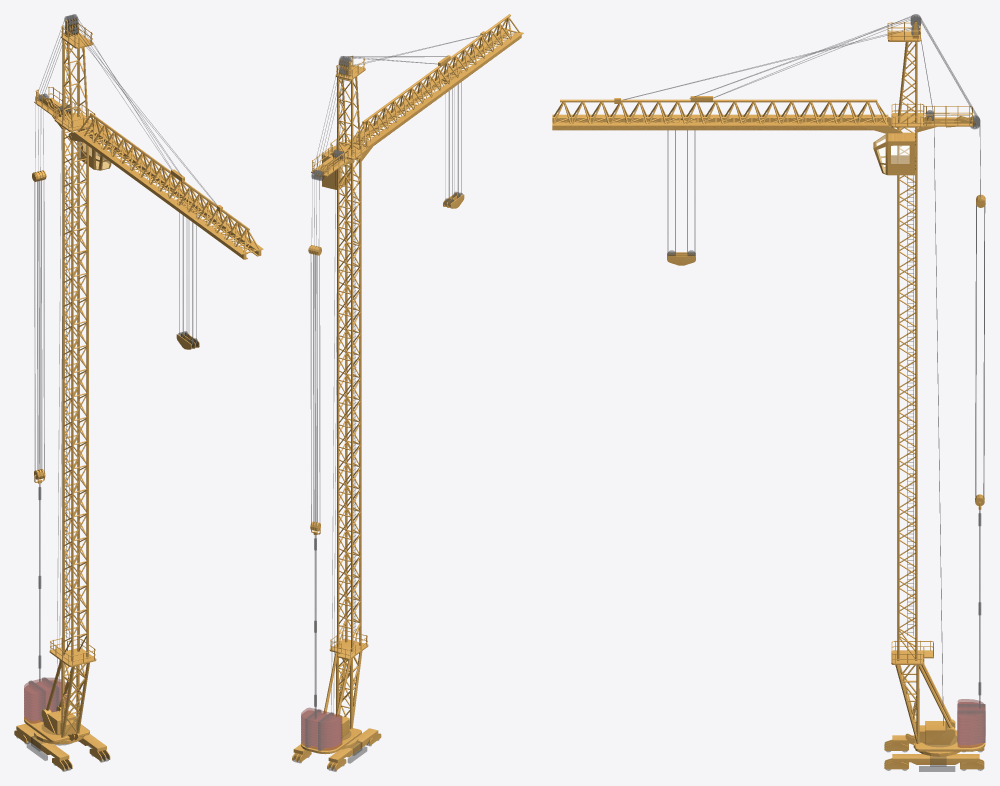
The model's file is crane.glb.
The picture shows the model from 3 angles, left to right: view 1: azimuth 30°, elevation 25°; view 2: azimuth 150°, elevation 25°; view 3: azimuth 270°, elevation 25°; orthographic projection. The views are drawn at different scales.
Visible parts, largest first — view 1: Crane N230817; view 2: Crane N230817; view 3: Crane N230817.
Part boxes in pixels (x1,y1,x2,y2): Crane N230817: (14,14,263,771); Crane N230817: (292,14,523,771); Crane N230817: (552,14,985,771).
Size of the model in its own units: 3.67 by 51 by 26.94.
4 materials, 3 textured.
